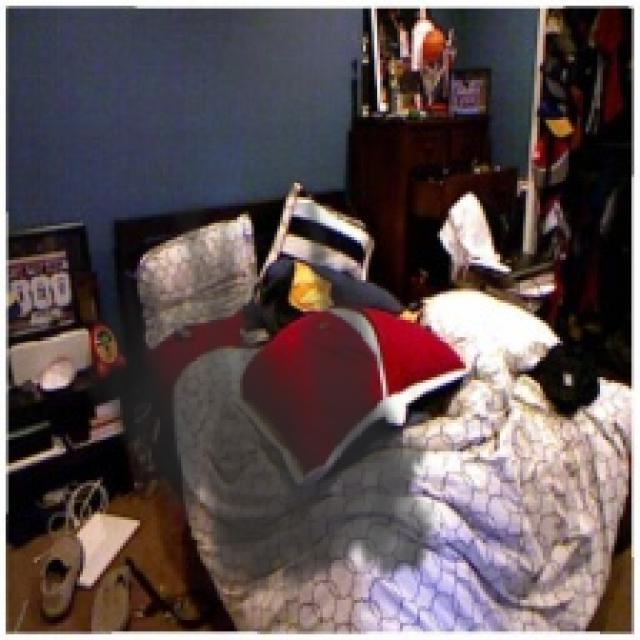Smoke: (72, 202, 454, 614)
